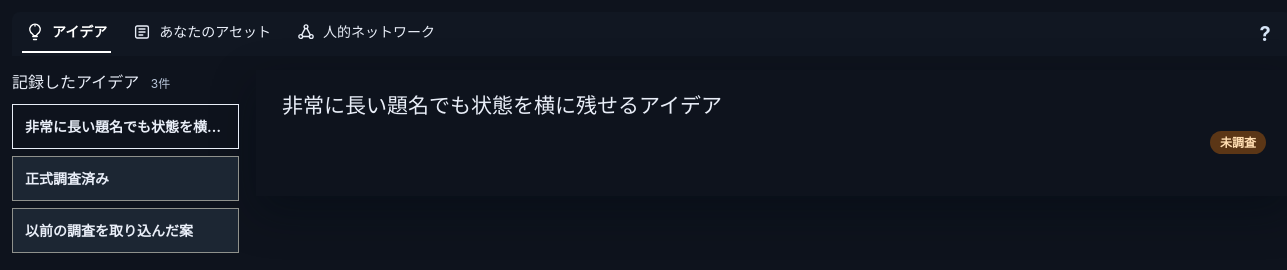
Scenario: keeps only titles in the idea list and a two-state badge at the right of the detail
This screenshot has width=1287, height=270.
Expected: the element with class "local-home__idea-heading" below "記録したアイデア" is shown, [25,116,226,137]
Expected: the element with class "local-home__idea-heading" showing "正式調査済み" is shown, [25,170,109,187]
Click the button "以前の調査を取り込んだ案".
click(126, 230)  # box [13,209,238,252]
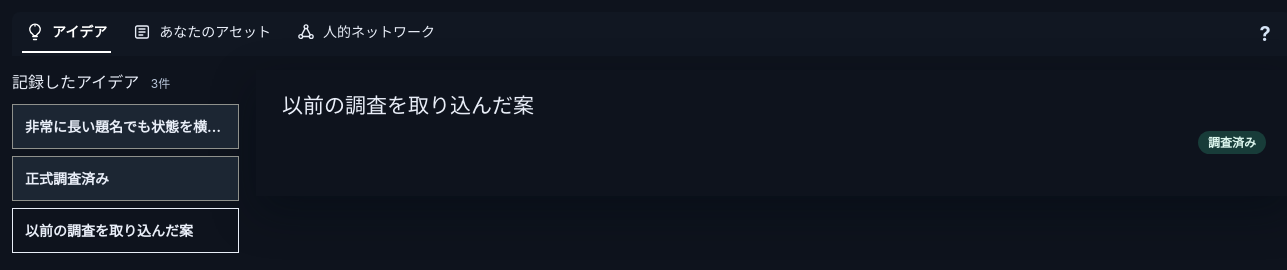
Now the text with class "local-home__status-badge" reads "調査済み", box [1208,135,1256,150]
